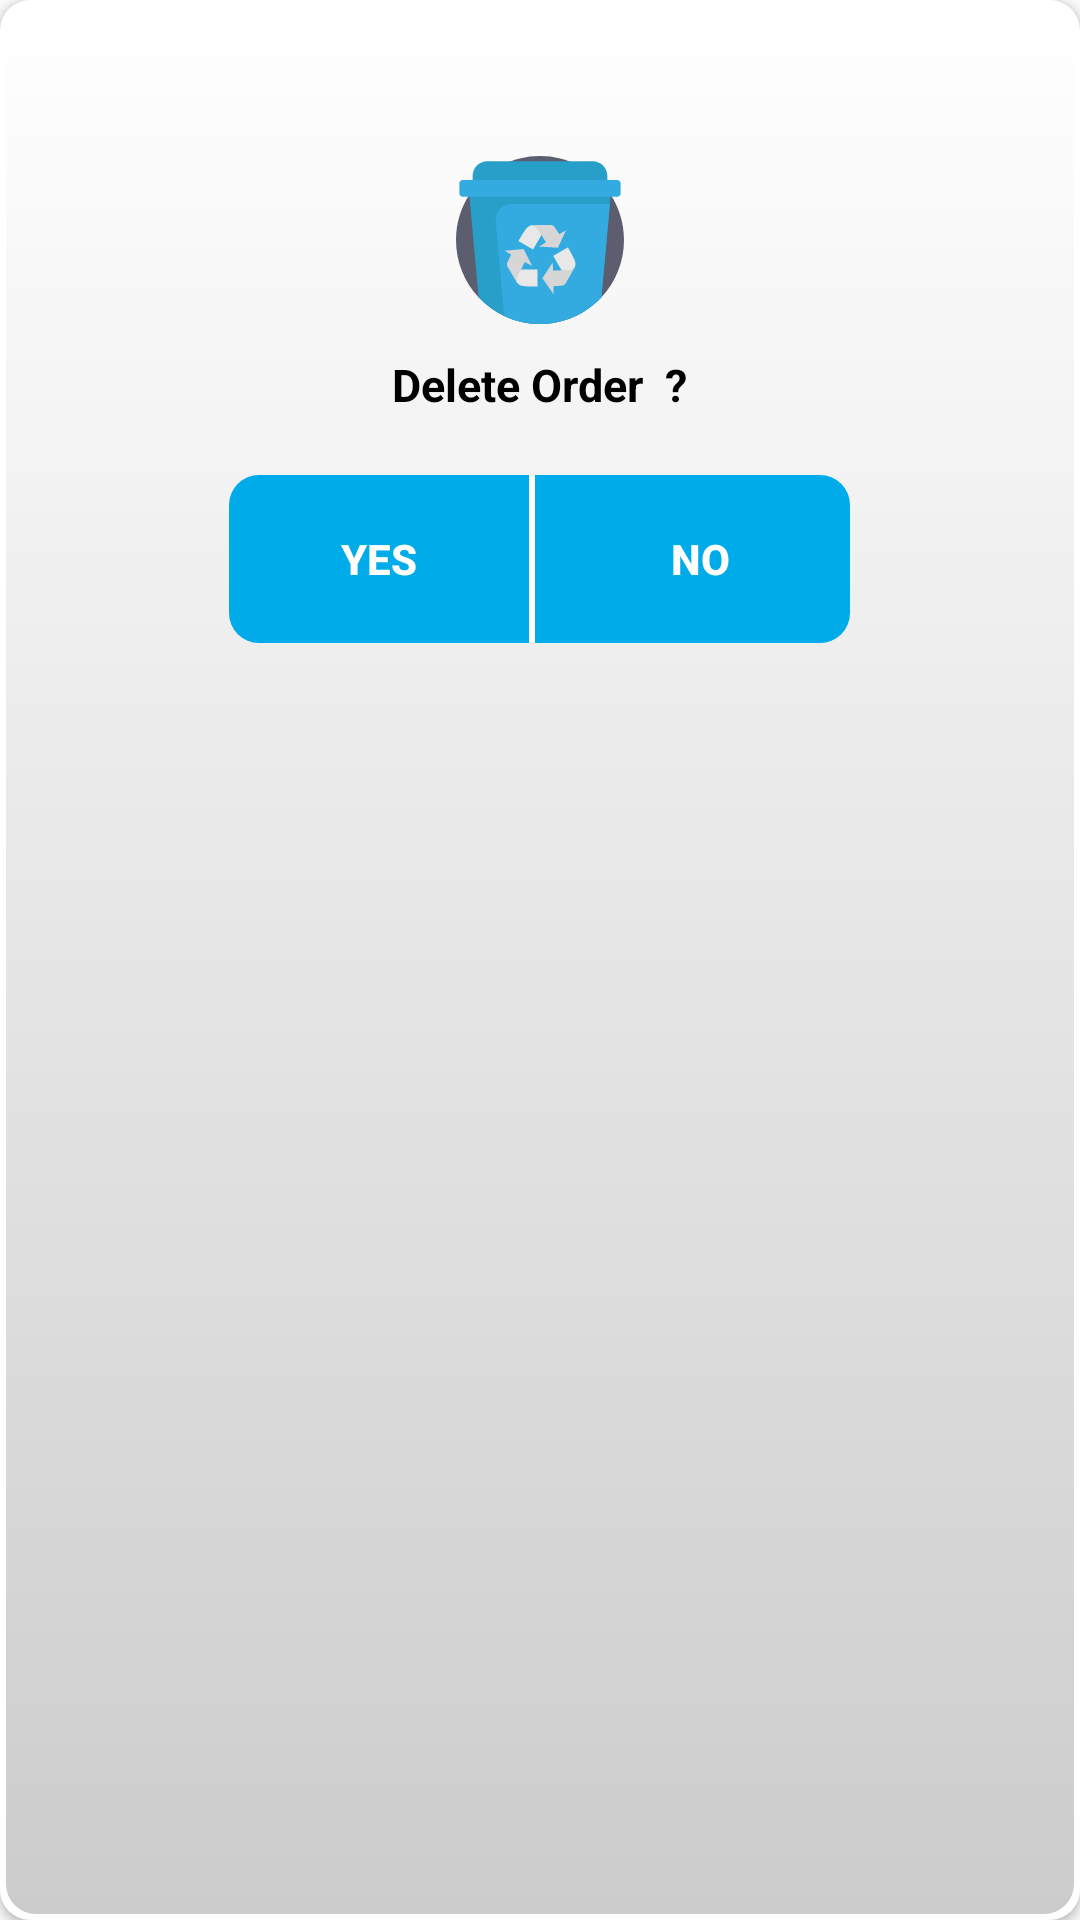

Screen size 1080 x 1920. Icon name, then its center in pixels as (x=x, y=y):
bin: (x=540, y=240)
